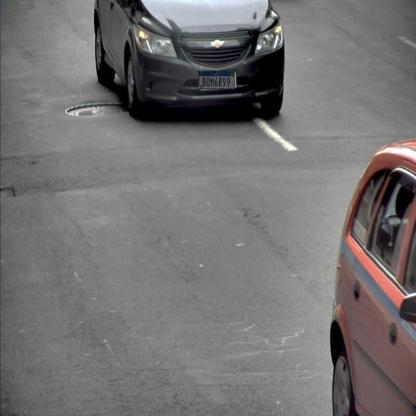PlacaM: (198, 72, 234, 90)
